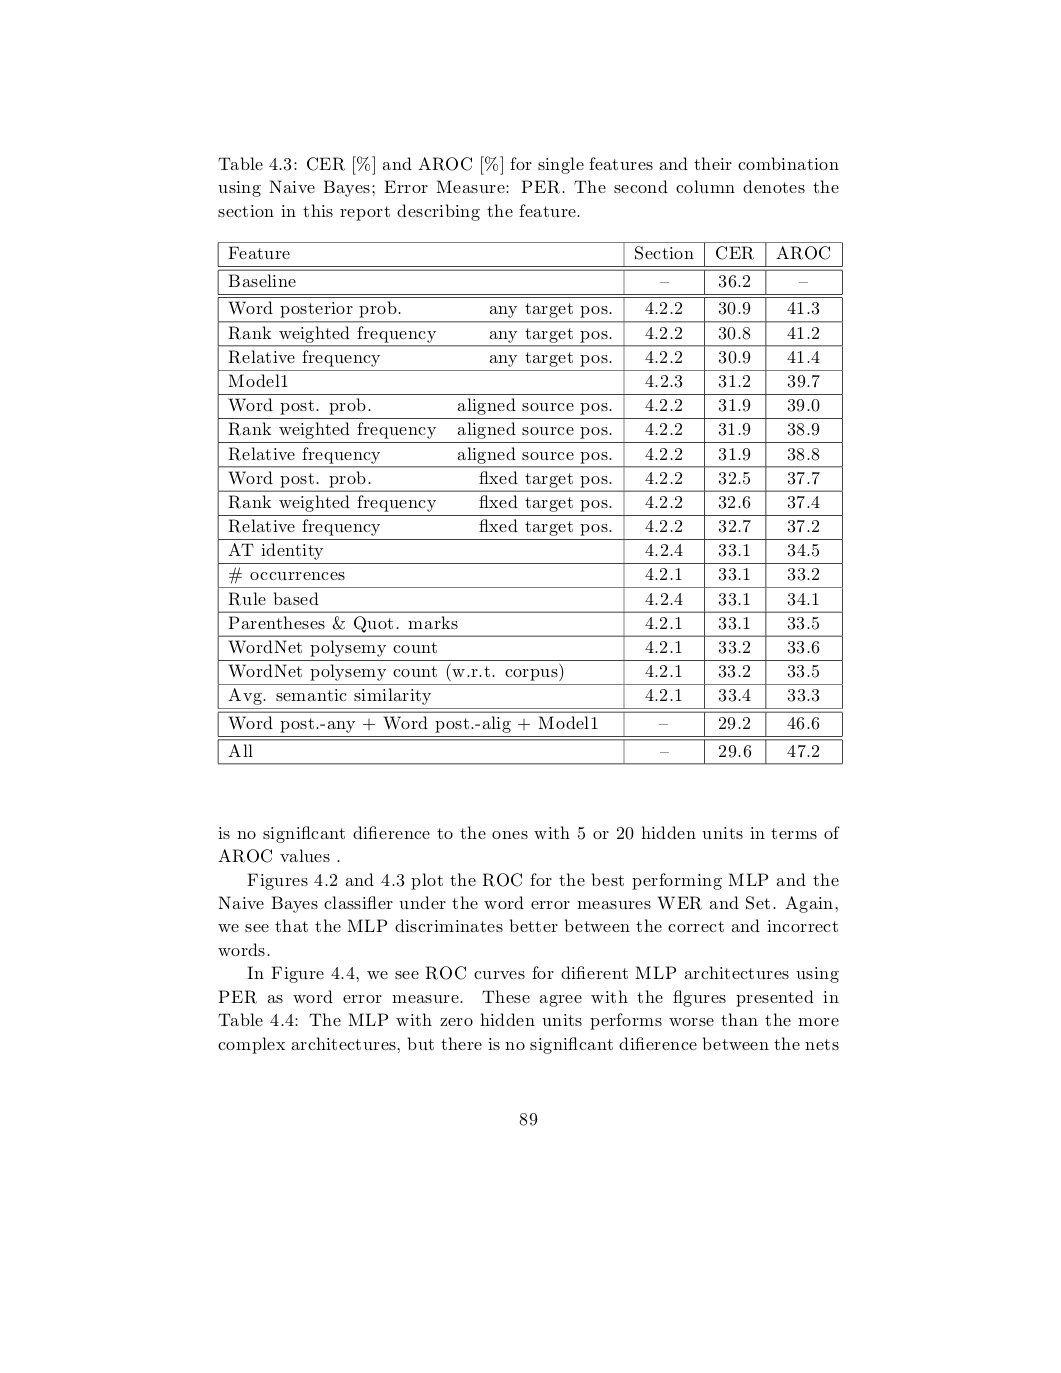Table: (217, 241, 841, 765)
